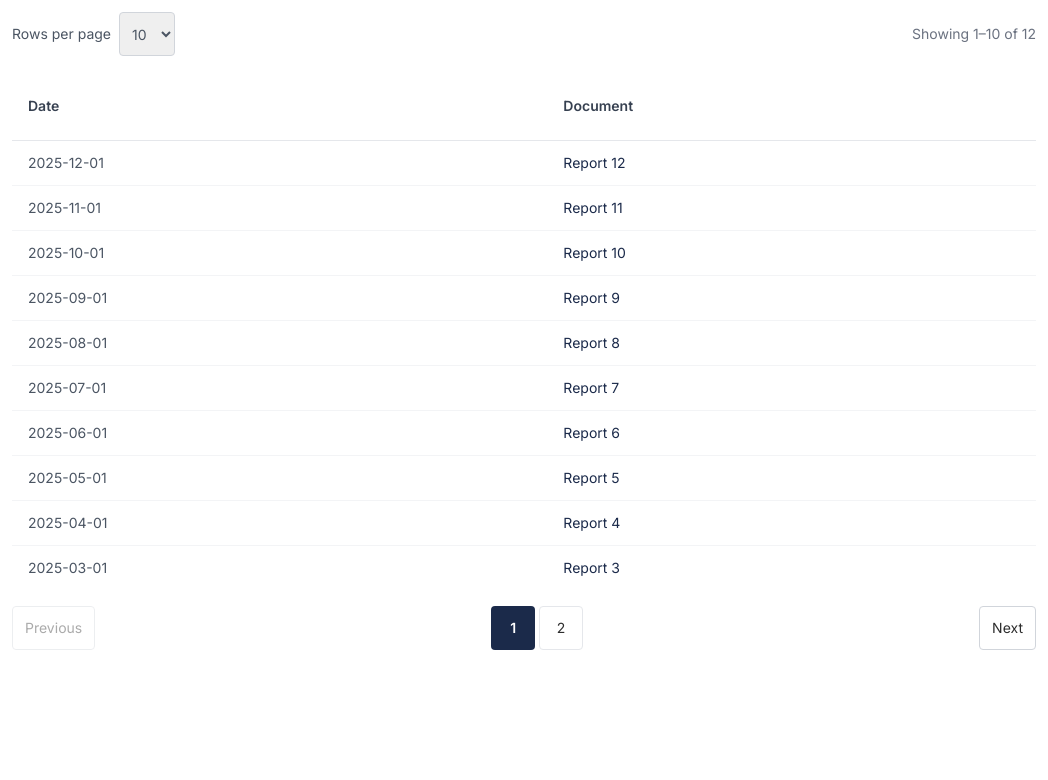
Test: ReportsTable › controls the number of rows per page
Select "5" in the dropdown at x=147, y=34, box [119,12,175,56]
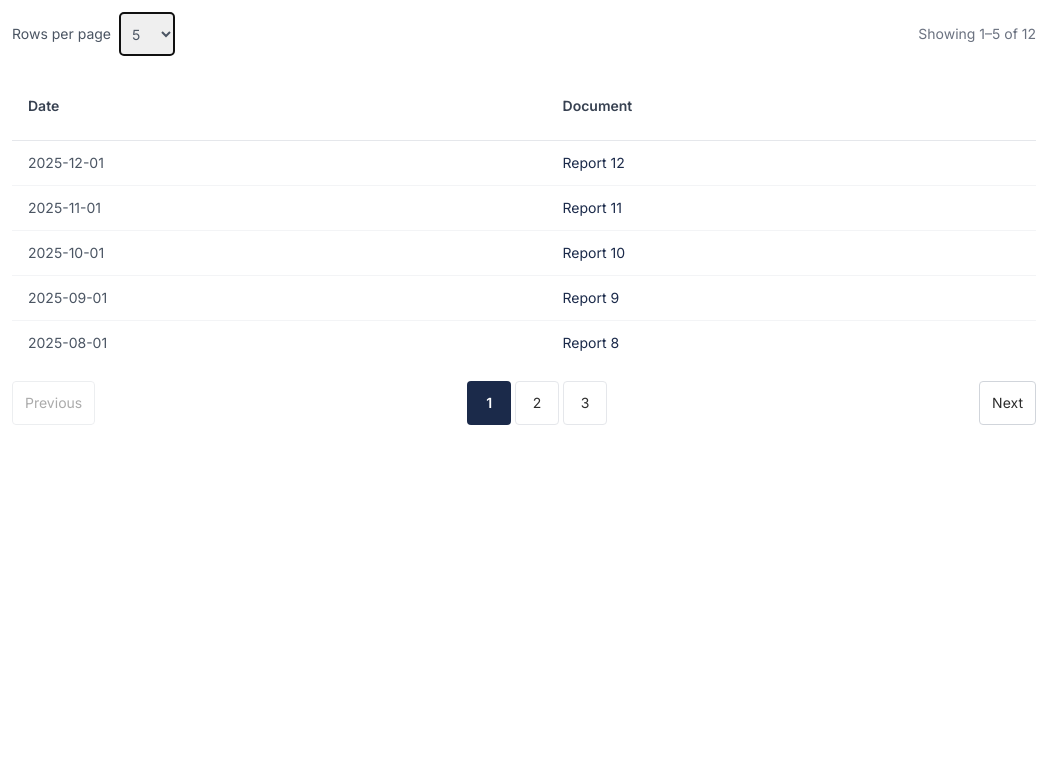
Expected: the number of links is 5, [562,154,625,171]; [562,199,622,216]; [562,244,625,261]; [562,289,619,306]; [562,334,619,351]
Expected: the text "Showing 1–5 of 12" is shown, [918,24,1036,44]
Select "20" in the dropdown at x=147, y=34, box [119,12,175,56]
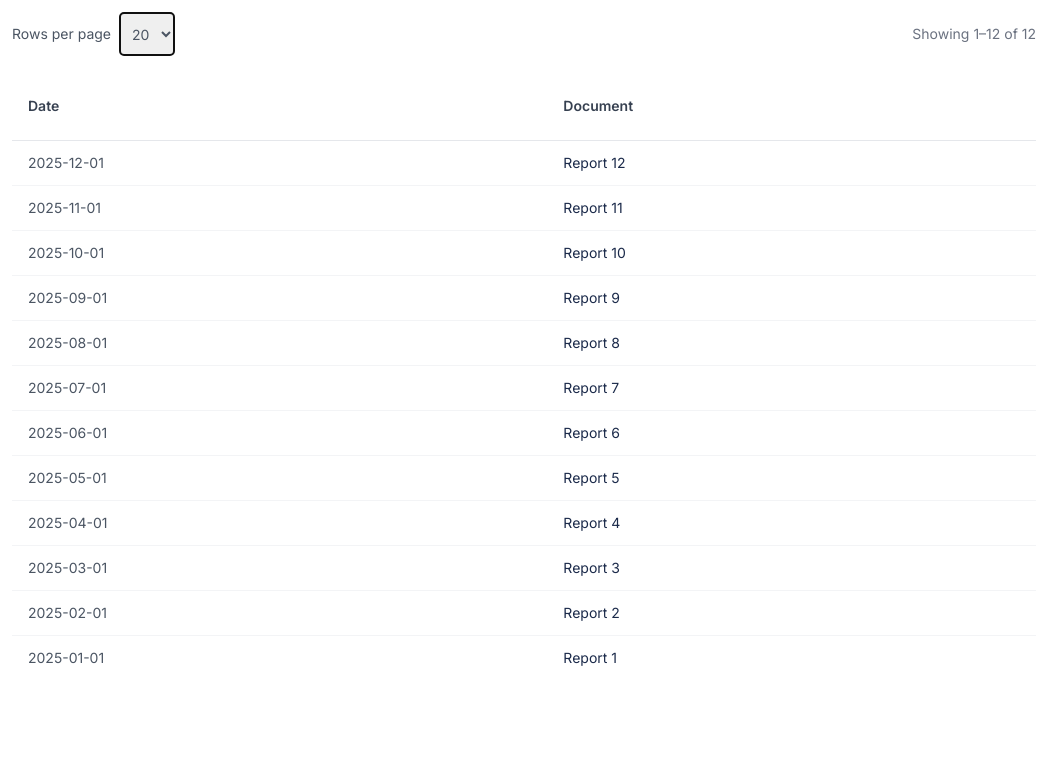
Expected: the number of links is 12
Expected: the text "Showing 1–12 of 12" is shown, [912,24,1036,44]
